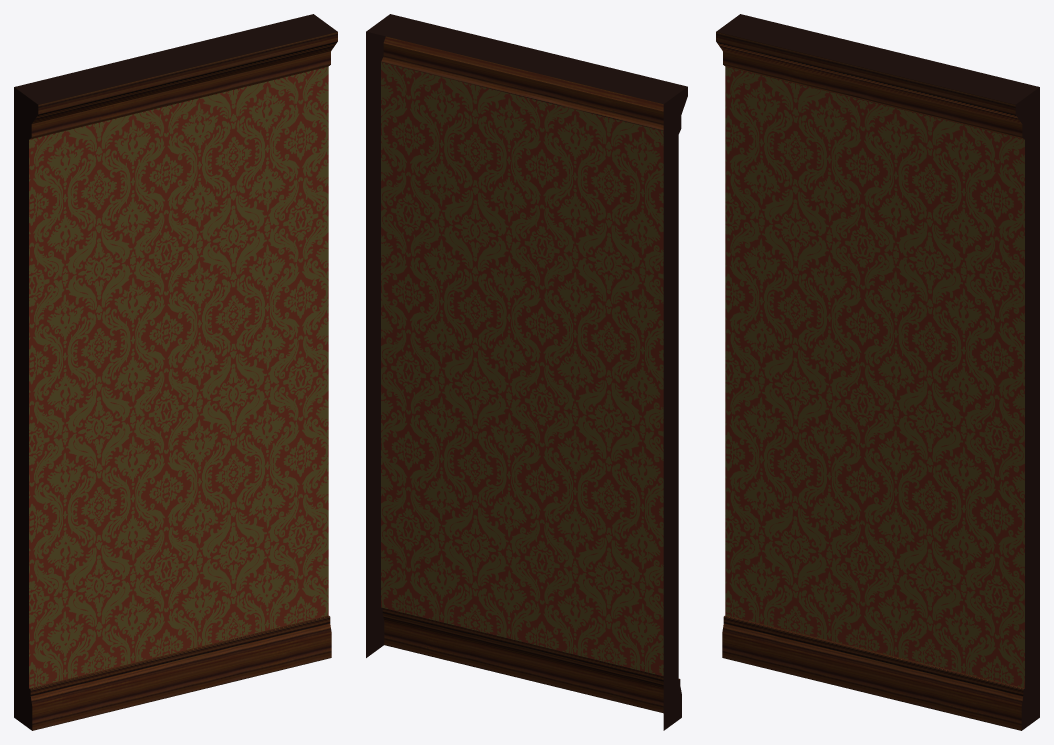
The model's file is Wall_Plain_Short.fbx.
3 renders of one model, left to right at view 1: azimuth 30°, elevation 25°; view 2: azimuth 150°, elevation 25°; view 3: azimuth 330°, elevation 25°, orthographic.
Visible parts, largest first — view 1: WallSmoothLong.002; view 2: WallSmoothLong.002; view 3: WallSmoothLong.002.
Boxes of the visible parts, <box> form: WallSmoothLong.002: <box>14,14,337,730</box>; WallSmoothLong.002: <box>366,14,687,730</box>; WallSmoothLong.002: <box>716,14,1039,730</box>.
Size of the model in its own units: 185 by 371 by 25.9.
